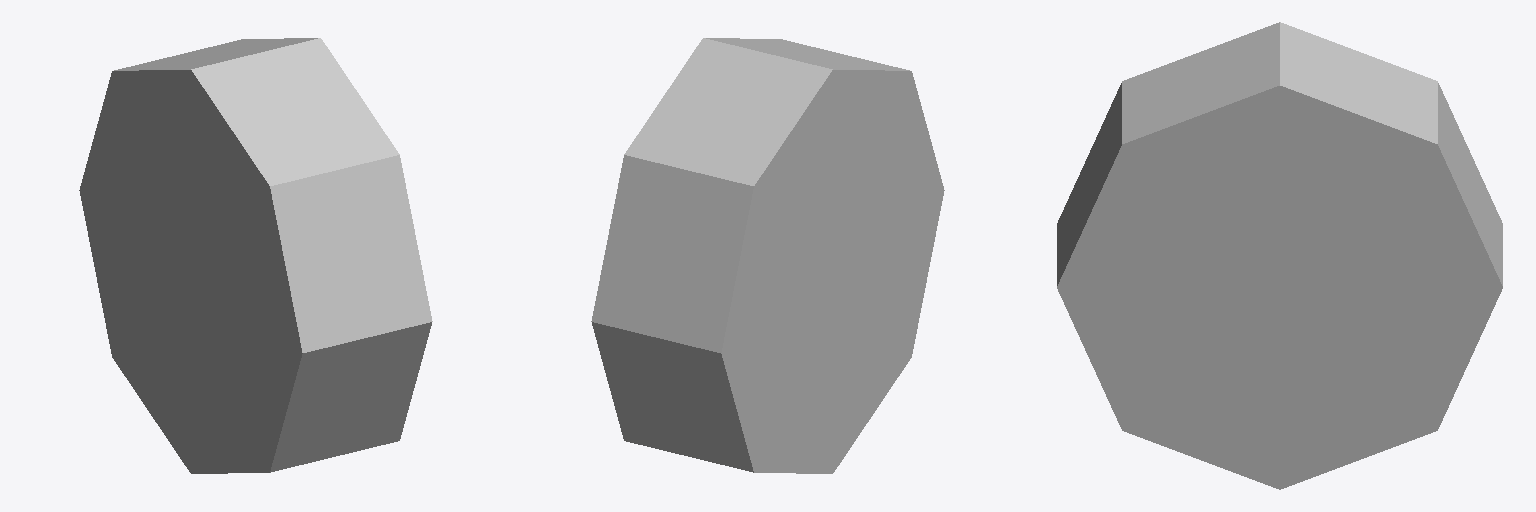
Rendered from wheel.obj.
3 renders of one model, left to right at view 1: azimuth 30°, elevation 25°; view 2: azimuth 150°, elevation 25°; view 3: azimuth 270°, elevation 25°, orthographic.
Parts seen in each view (by area): view 1: Cube.001; view 2: Cube.001; view 3: Cube.001.
Part boxes in pixels (left/top/right/bottom): Cube.001: left=79, top=38, right=432, bottom=473; Cube.001: left=591, top=38, right=944, bottom=473; Cube.001: left=1057, top=22, right=1502, bottom=489.
Size of the model in its own units: 0.3354 by 0.998 by 0.998.